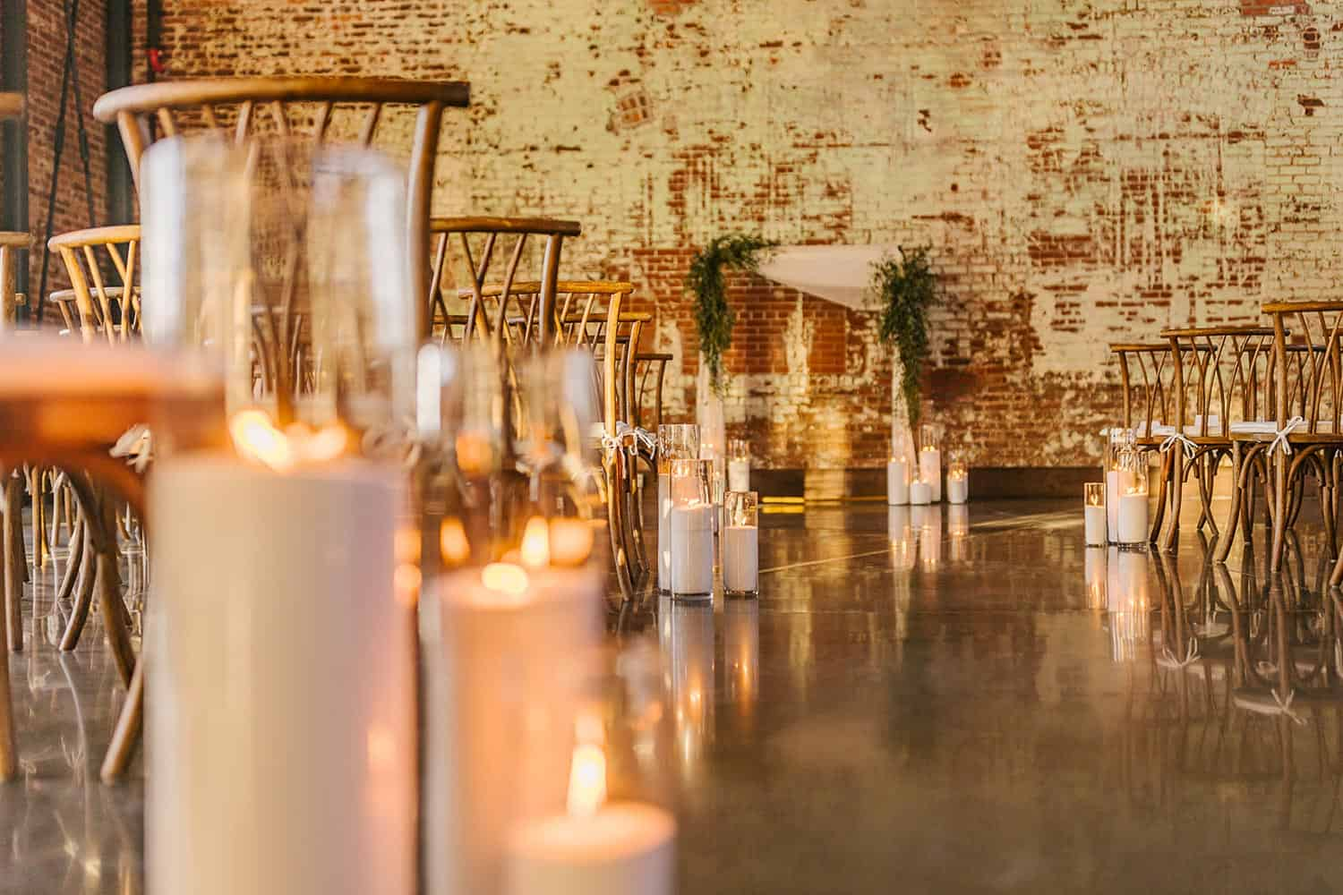Open-Flame-Hazard: (141, 133, 404, 882), (408, 335, 680, 889), (675, 424, 771, 608), (876, 426, 981, 504), (1068, 460, 1161, 544)
